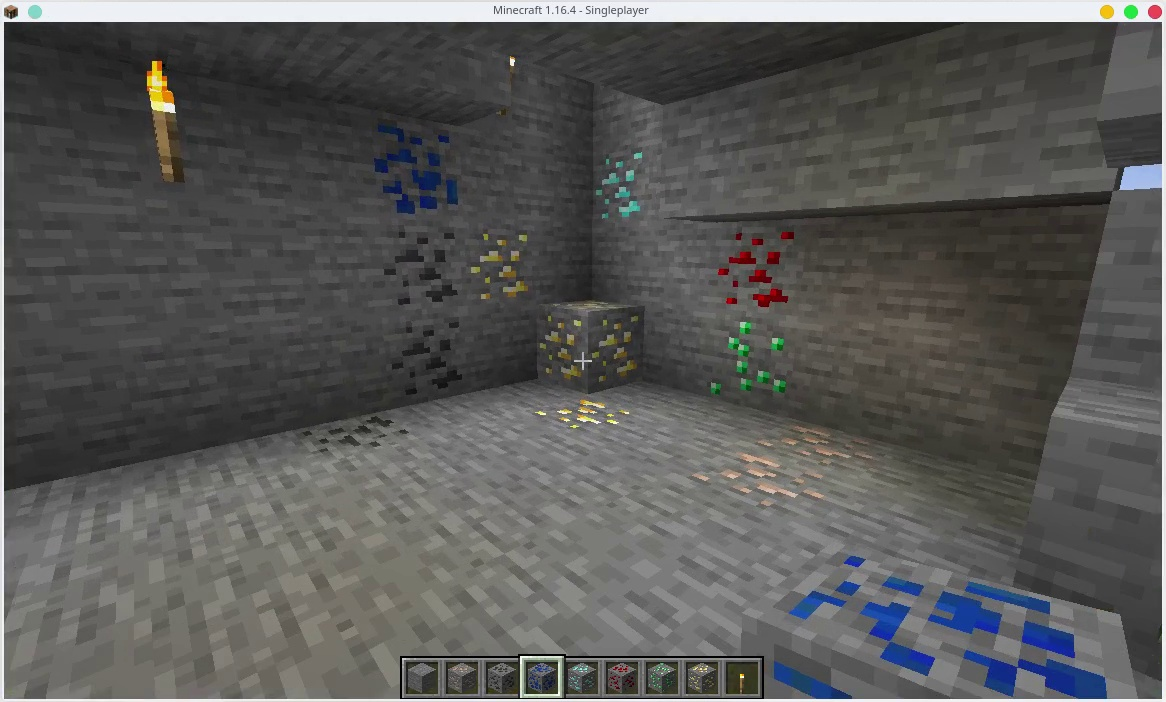gold: (537, 298, 645, 386), (471, 231, 532, 310), (534, 395, 636, 432), (687, 663, 719, 691)
